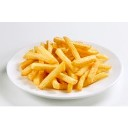frenchfries: (22, 36, 109, 86)
